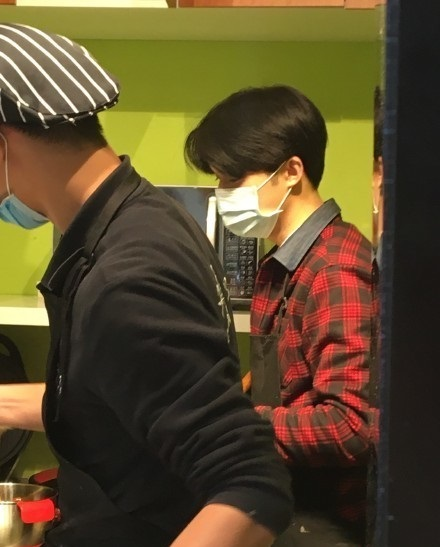face_mask: (214, 154, 282, 240)
